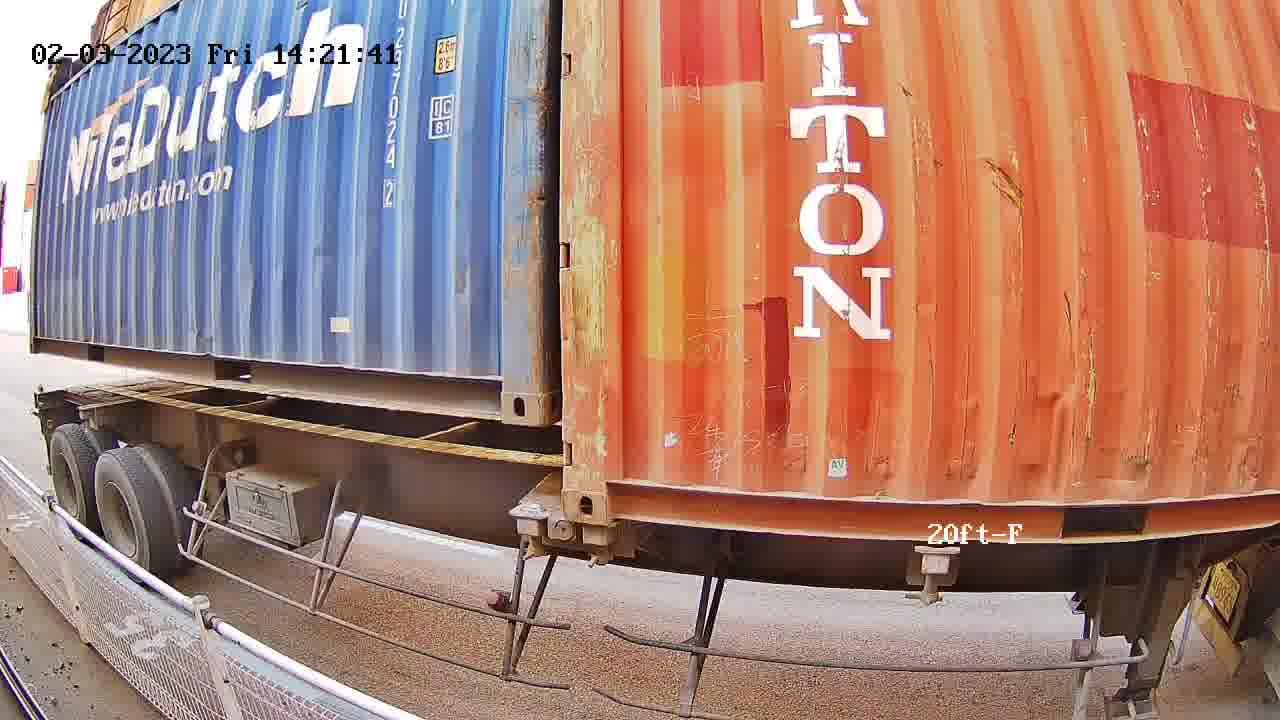Cone: (514, 503, 553, 558), (575, 524, 614, 567)
Hole_L: (562, 454, 649, 527)
Hole_R: (461, 353, 541, 426)
Tire: (94, 451, 156, 584), (49, 427, 92, 545)
